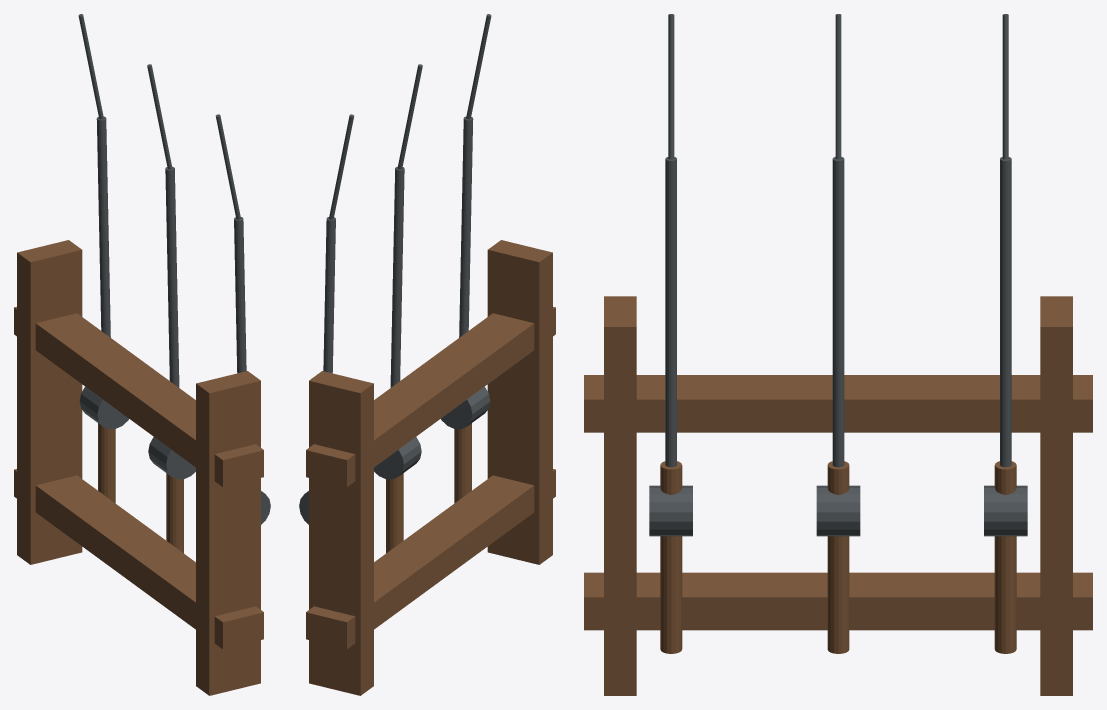
Rendered from SM_Module_RodRack.glb.
3 views of the same model, side by side, from view 1: azimuth 30°, elevation 25°; view 2: azimuth 150°, elevation 25°; view 3: azimuth 270°, elevation 25° (orthographic). The views are drawn at different scales.
Visible parts, largest first — view 1: SM_Module_RodRack; view 2: SM_Module_RodRack; view 3: SM_Module_RodRack.
Boxes of the visible parts, x1,y1,x2,y2 form: SM_Module_RodRack: (14,14,270,695); SM_Module_RodRack: (299,14,555,695); SM_Module_RodRack: (584,14,1092,695).
Size of the model in its own units: 0.155 by 1.02 by 0.7.
